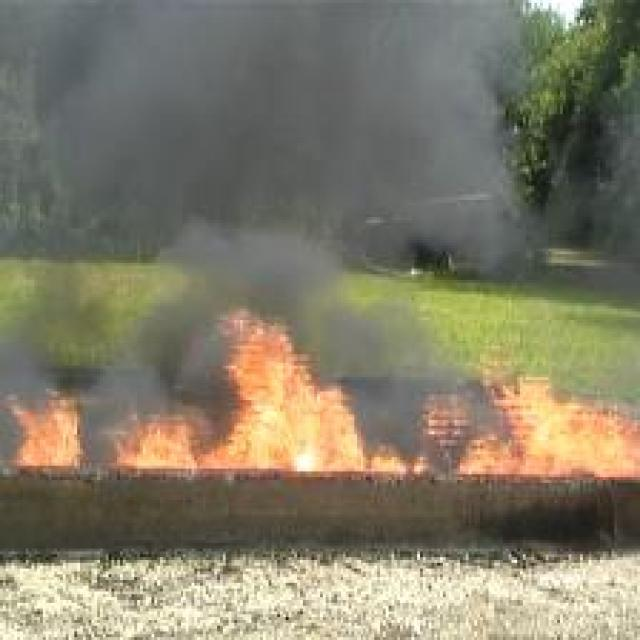Fire: (107, 307, 433, 473), (454, 352, 640, 477), (7, 388, 84, 466)
